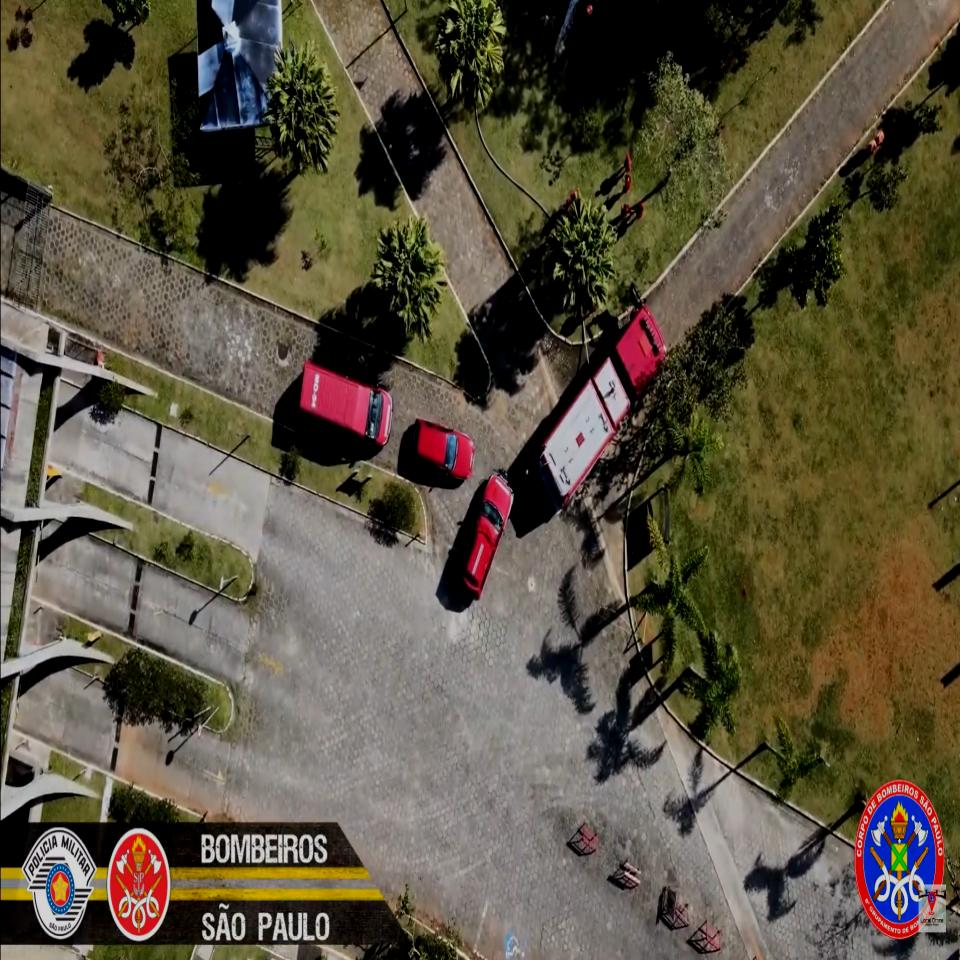bombeiro: (533, 300, 669, 512)
